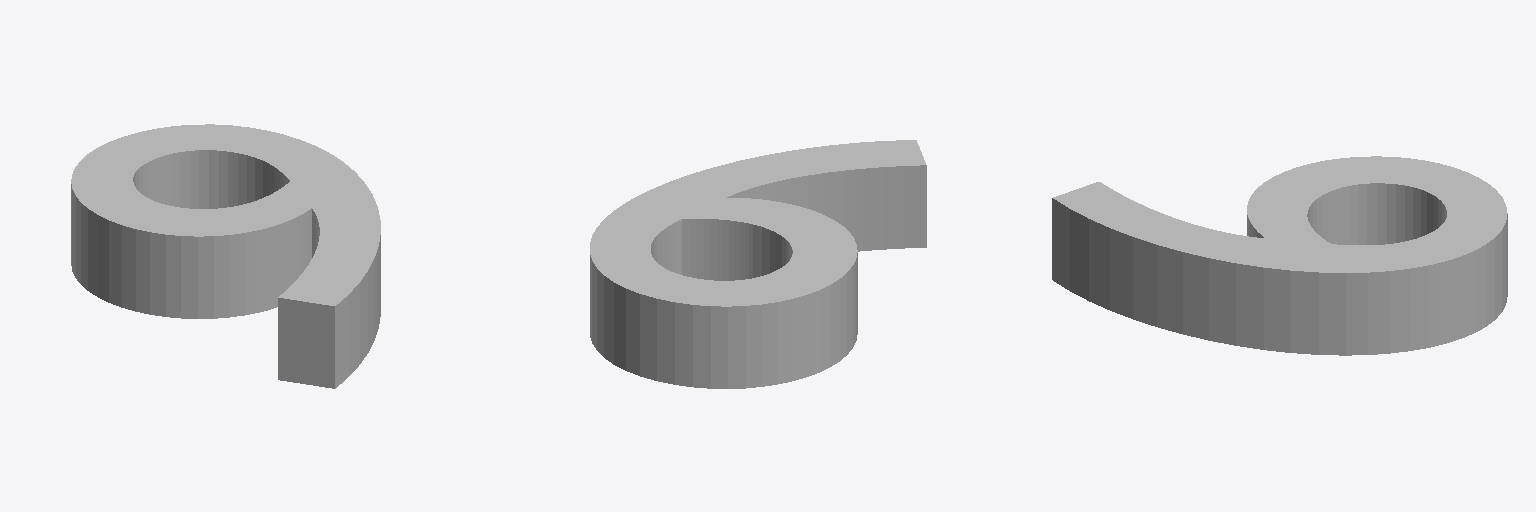
The model's file is Number_9.obj.
The picture shows the model from 3 angles: view 1: azimuth 30°, elevation 25°; view 2: azimuth 150°, elevation 25°; view 3: azimuth 270°, elevation 25°; orthographic projection.
Parts seen in each view (by area): view 1: Text; view 2: Text; view 3: Text.
Boxes of the visible parts, x1,y1,x2,y2 form: Text: [71, 124, 380, 388]; Text: [590, 140, 926, 388]; Text: [1052, 156, 1507, 355].
Bounding box in the file's own units: 0.425 × 0.14 × 0.7.